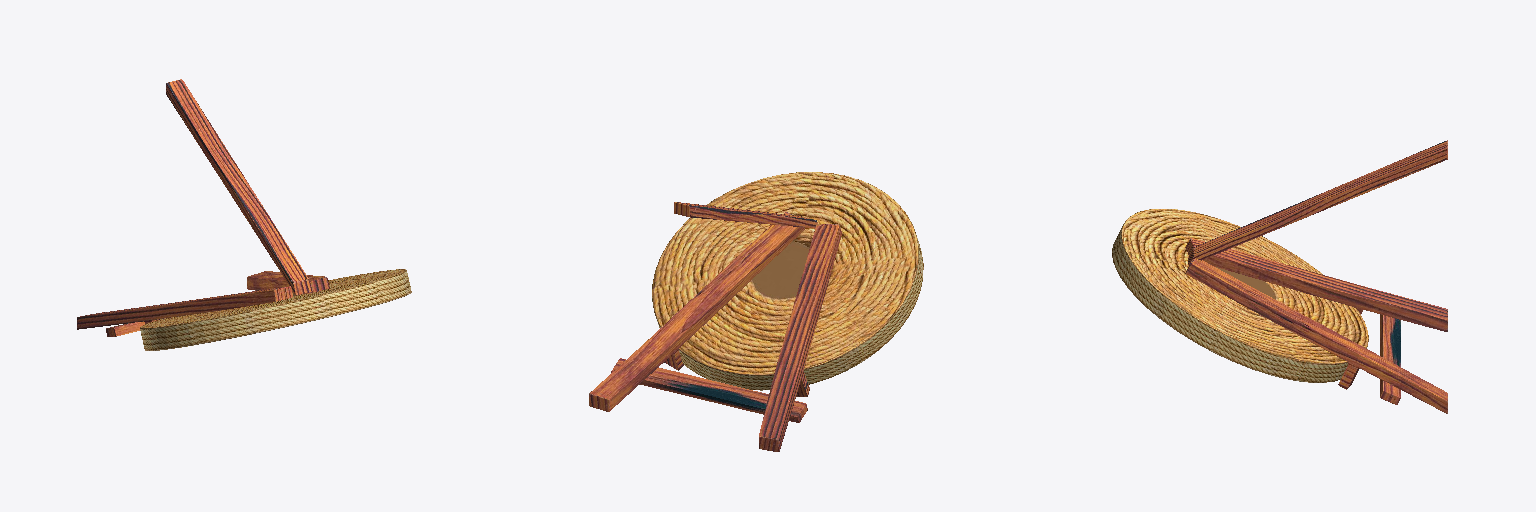
The picture shows the model from 3 angles: view 1: azimuth 30°, elevation 25°; view 2: azimuth 150°, elevation 25°; view 3: azimuth 270°, elevation 25°; orthographic projection.
Parts seen in each view (by area): view 1: 10480_archery_target; view 2: 10480_archery_target; view 3: 10480_archery_target.
Boxes of the visible parts, x1=… form: 10480_archery_target: x1=77, y1=79, x2=411, y2=350; 10480_archery_target: x1=589, y1=172, x2=923, y2=451; 10480_archery_target: x1=1112, y1=140, x2=1447, y2=413.
Bounding box in the file's own units: 76.65 × 69.91 × 94.23.
1 materials, 1 textured.